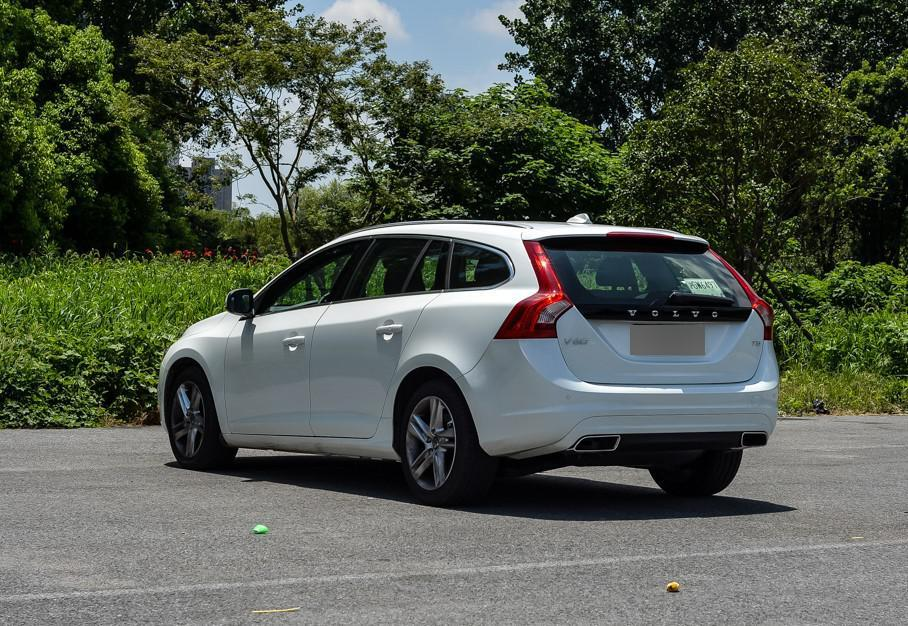Wagon: (159, 219, 781, 503)
